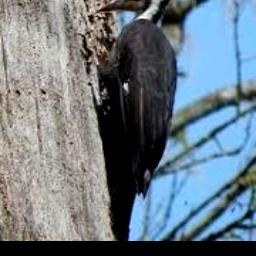Woodpecker: (92, 0, 189, 197)
